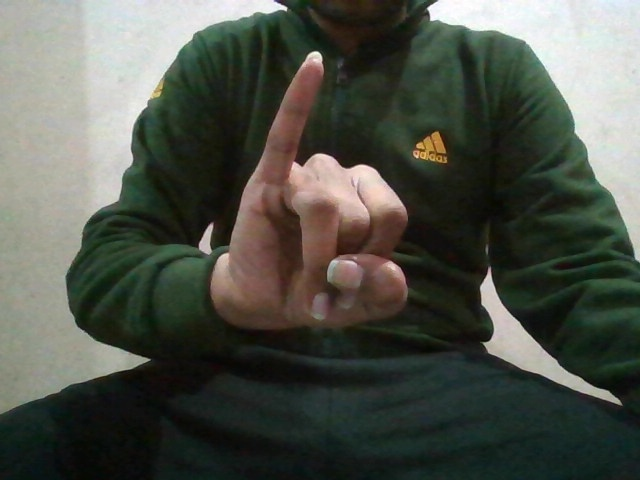I: (220, 47, 419, 346)
